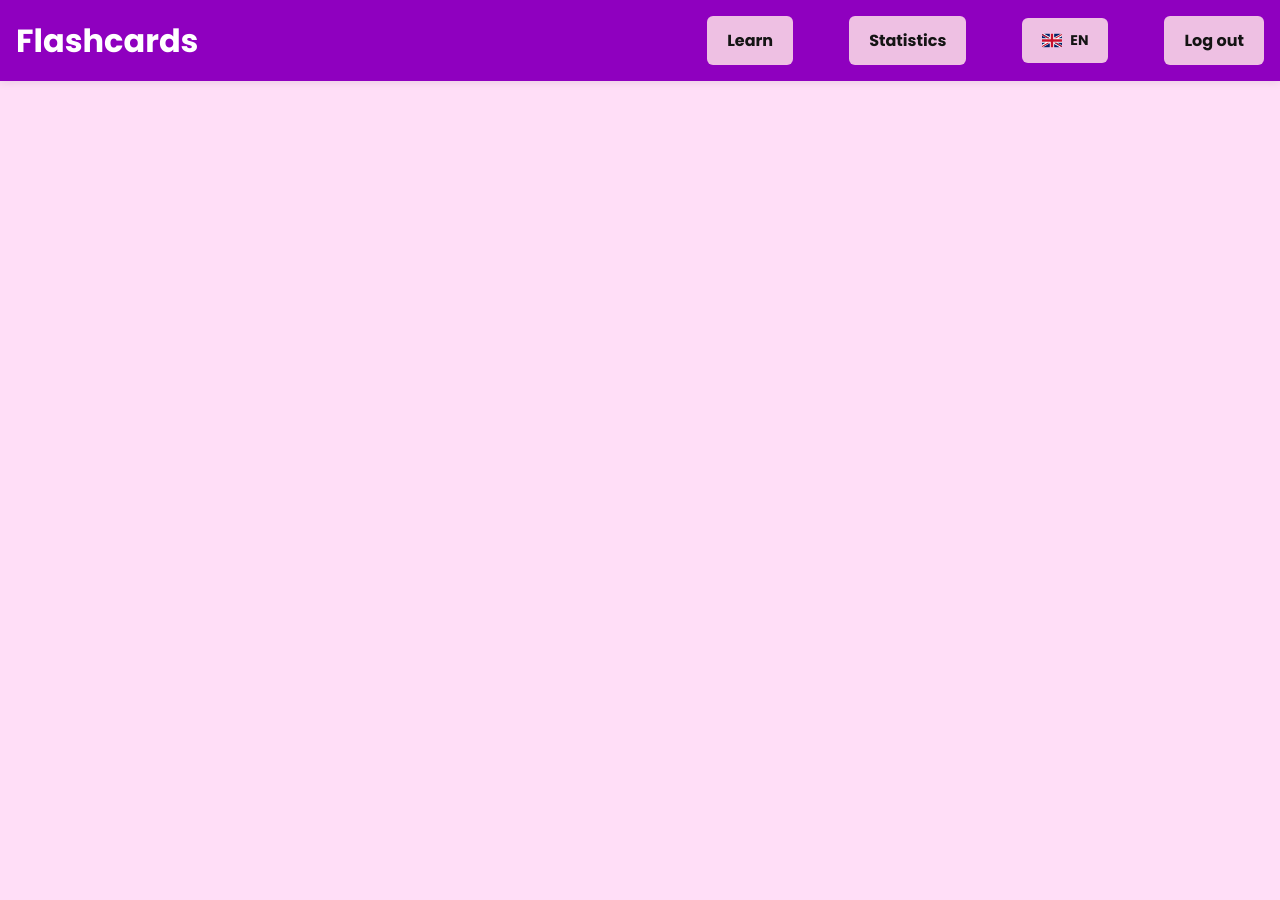
Navbar component › Closes language dropdown when clicking outside
Note: Show dropdown
Click the button "EN" at point(1065, 40), box [1022,18,1108,63]
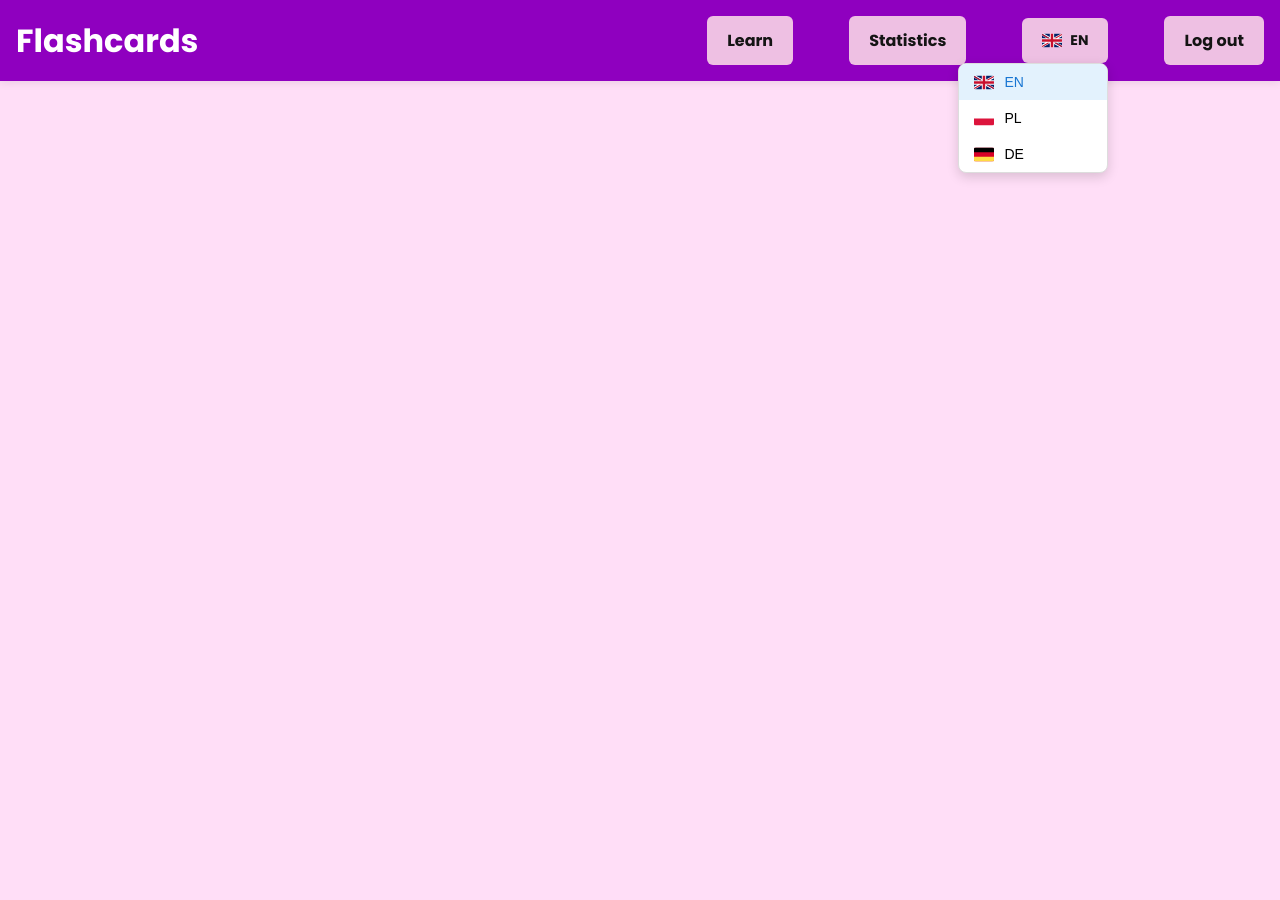
expect the text "PL" is shown: met, box [1004,110,1022,126]
Note: Click outside the dropdown (on document body)
Press the mouse on the element showing "Flashcards Learn Statistics EN EN PL DE Log out" at point(640, 450), box [0,0,1279,899]
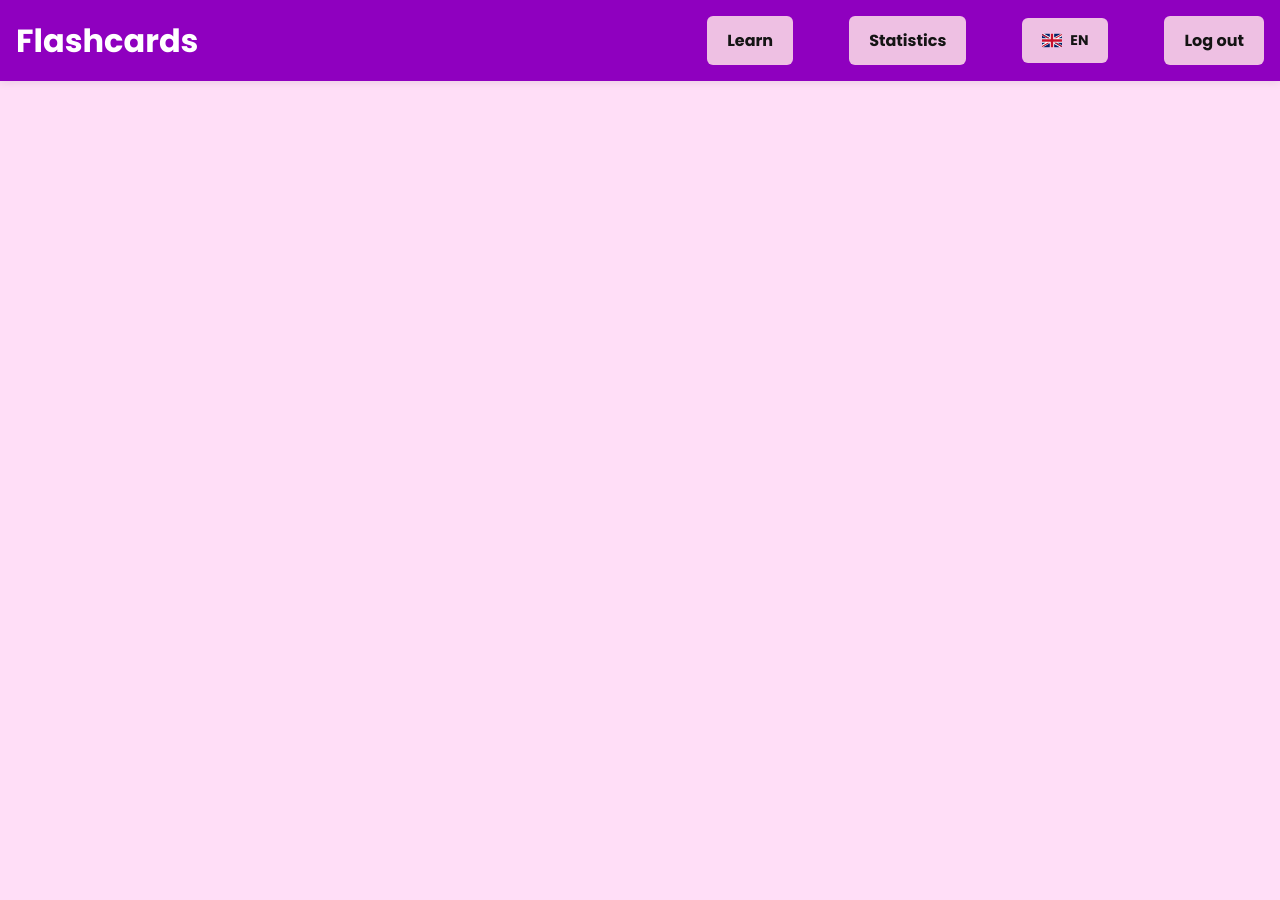
expect the button "PL" is gone: met
